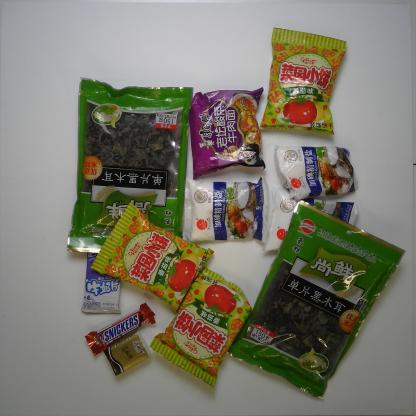Candy: (79, 248, 124, 316)
Chocolate: (82, 300, 158, 357)
Dried Food: (223, 197, 409, 402), (64, 73, 194, 258)
Instant Noodles: (186, 84, 269, 182)
Puffed Food: (88, 199, 216, 316), (146, 263, 255, 390), (255, 22, 349, 138)
Seasoner: (263, 176, 360, 253), (180, 174, 274, 246), (272, 141, 361, 201)
Tissue: (101, 328, 152, 378)
